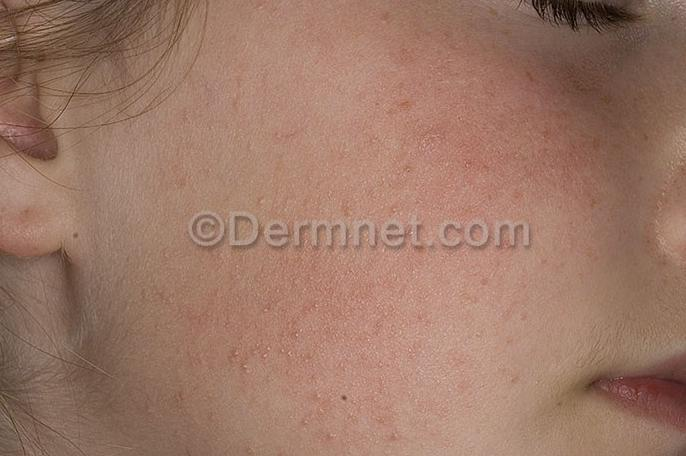edema 1: (159, 106, 530, 456)
eritema 1: (222, 69, 632, 370)
